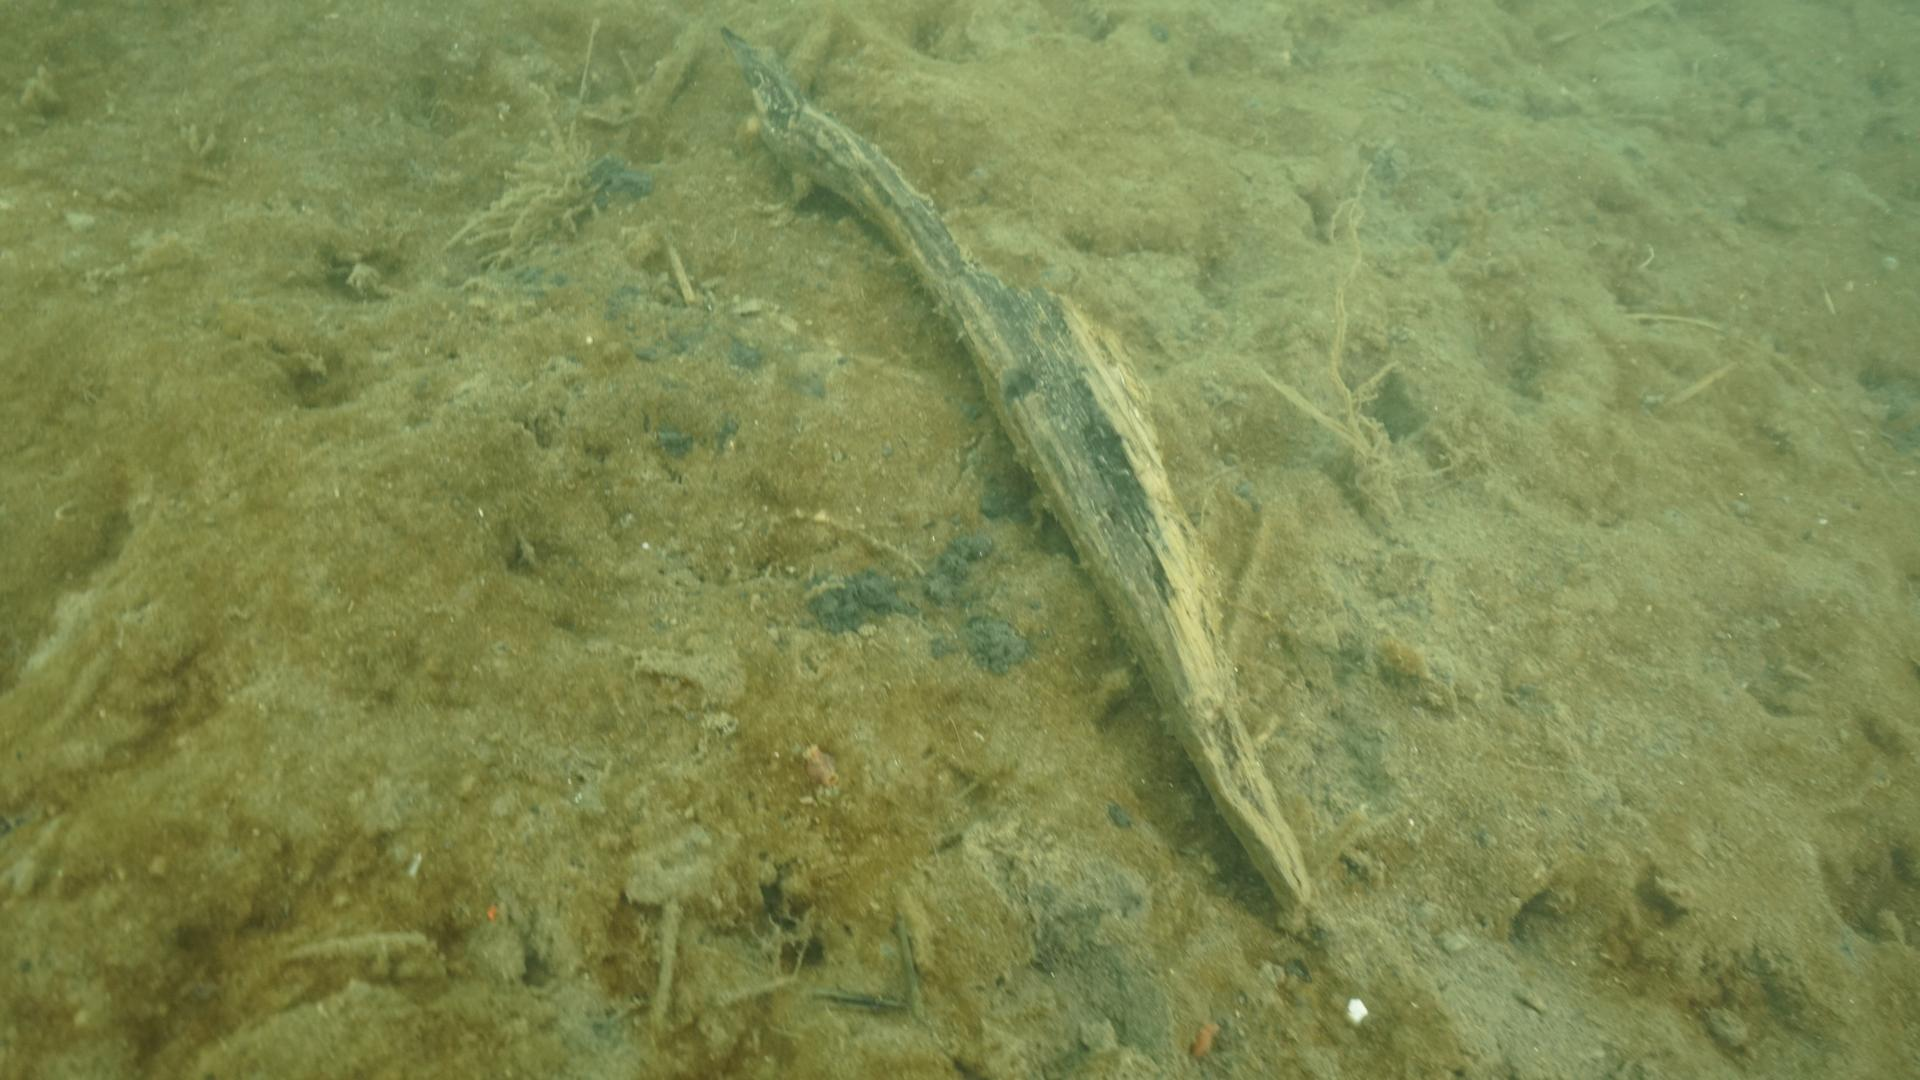wood: (708, 13, 1315, 923)
